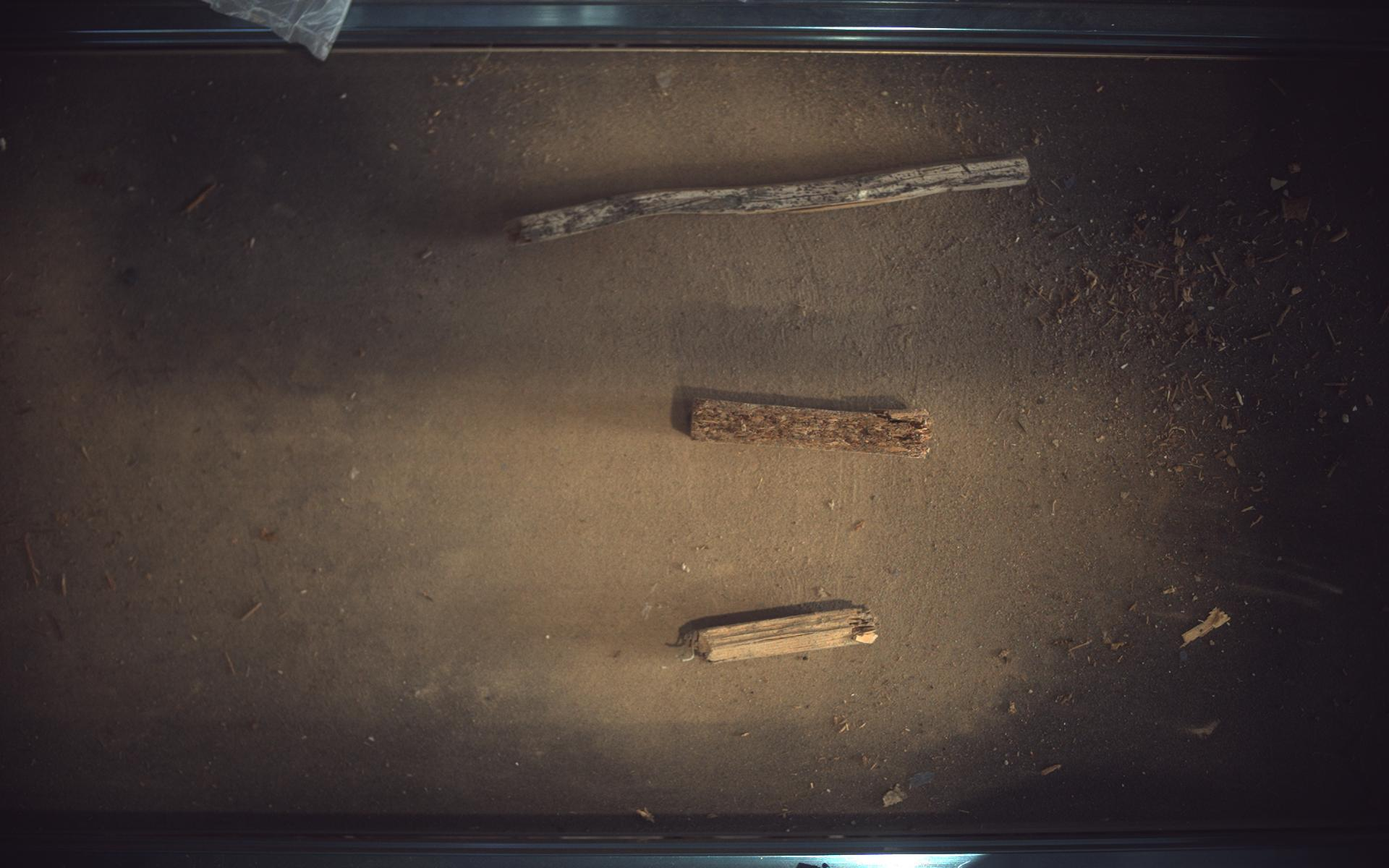wood: (506, 156, 1032, 242), (692, 399, 933, 457), (694, 608, 879, 663)
